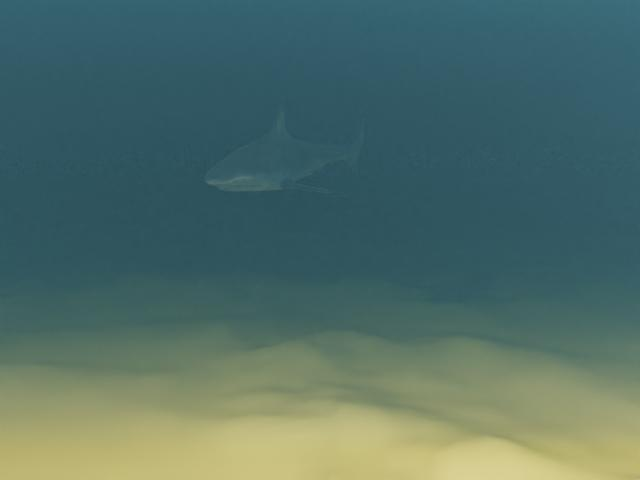Carribean Shark.001: (204, 103, 364, 195)
